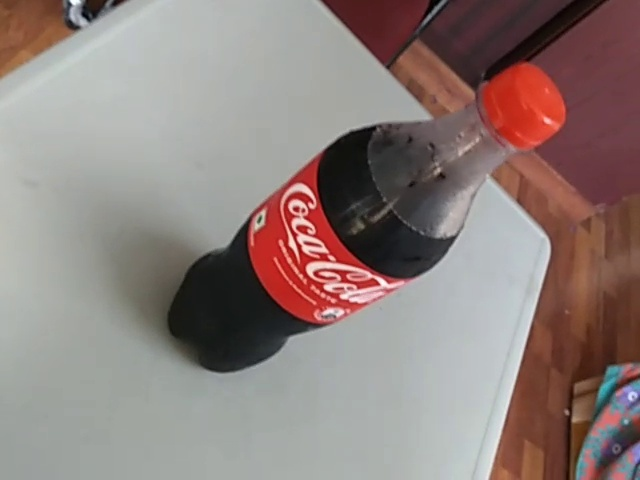Cocacola: (155, 56, 579, 387)
